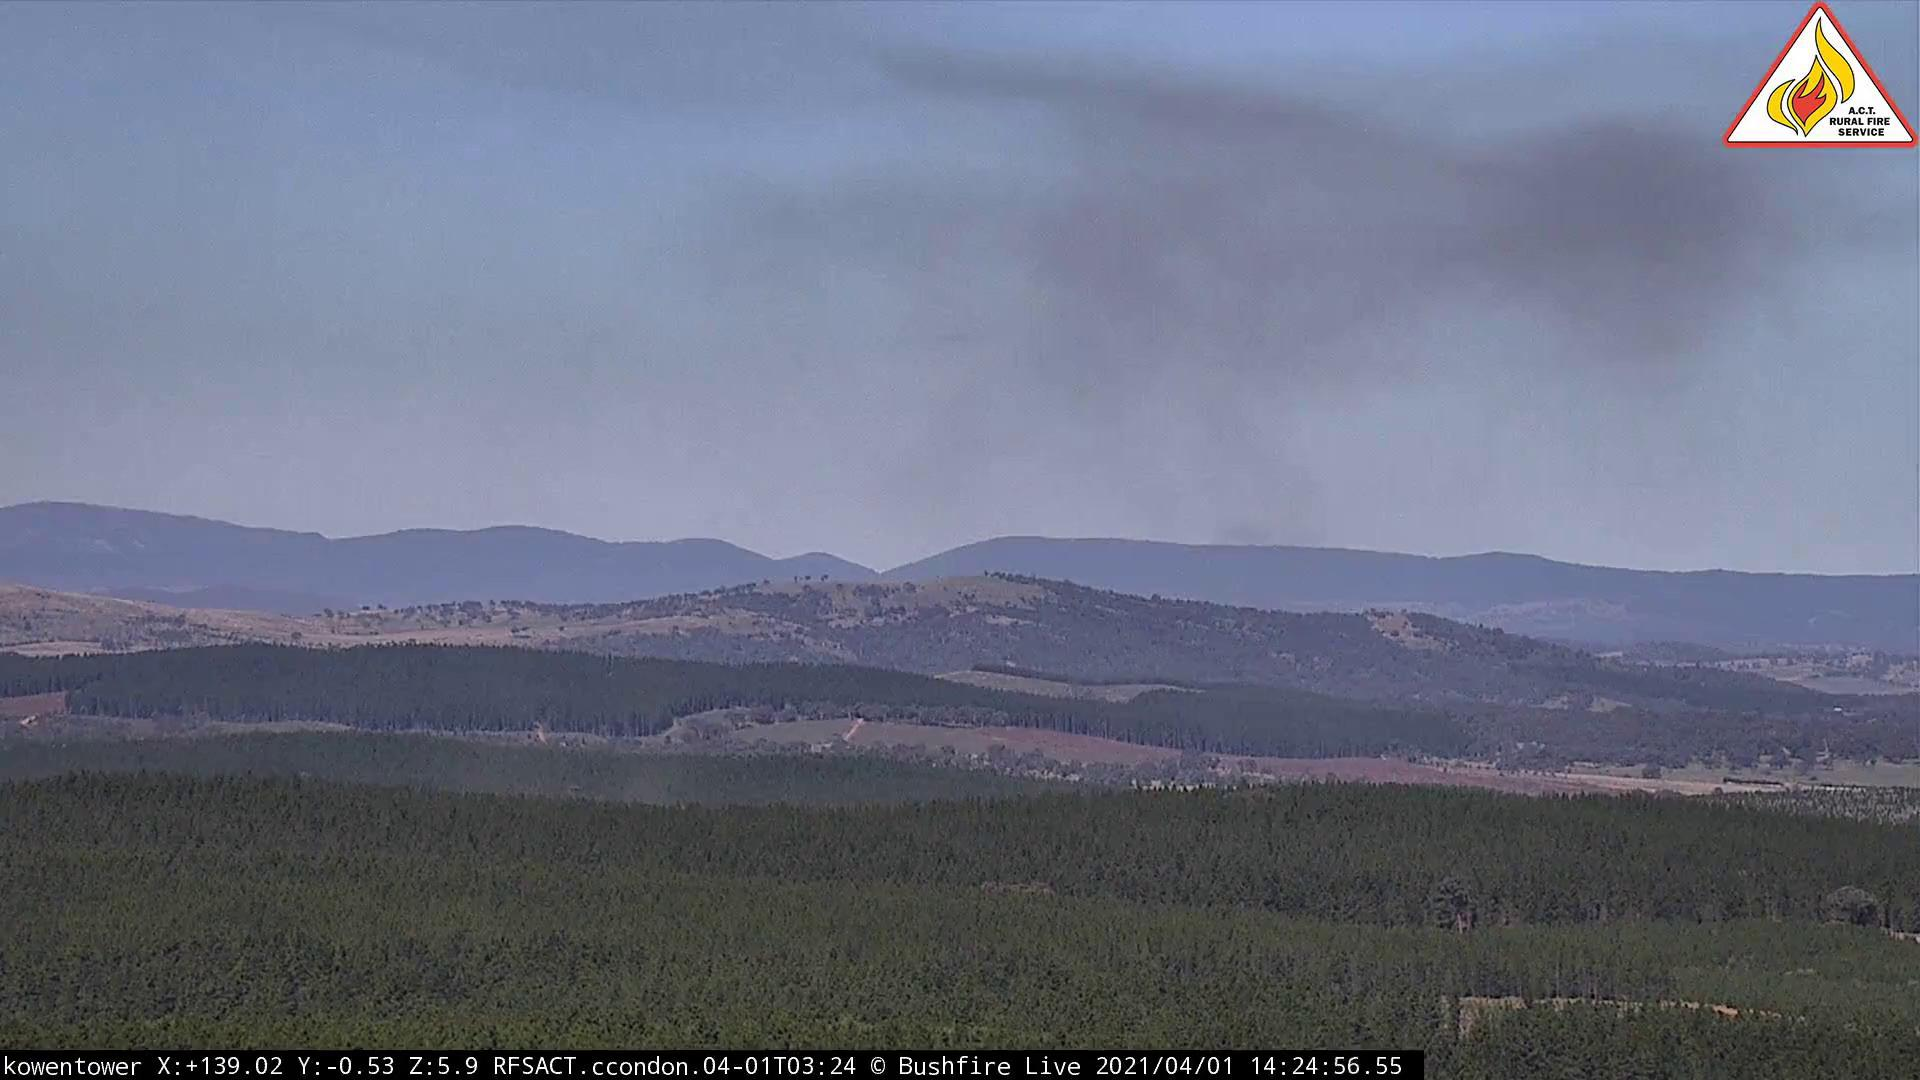instance_salient_object: (3, 49, 1920, 582)
